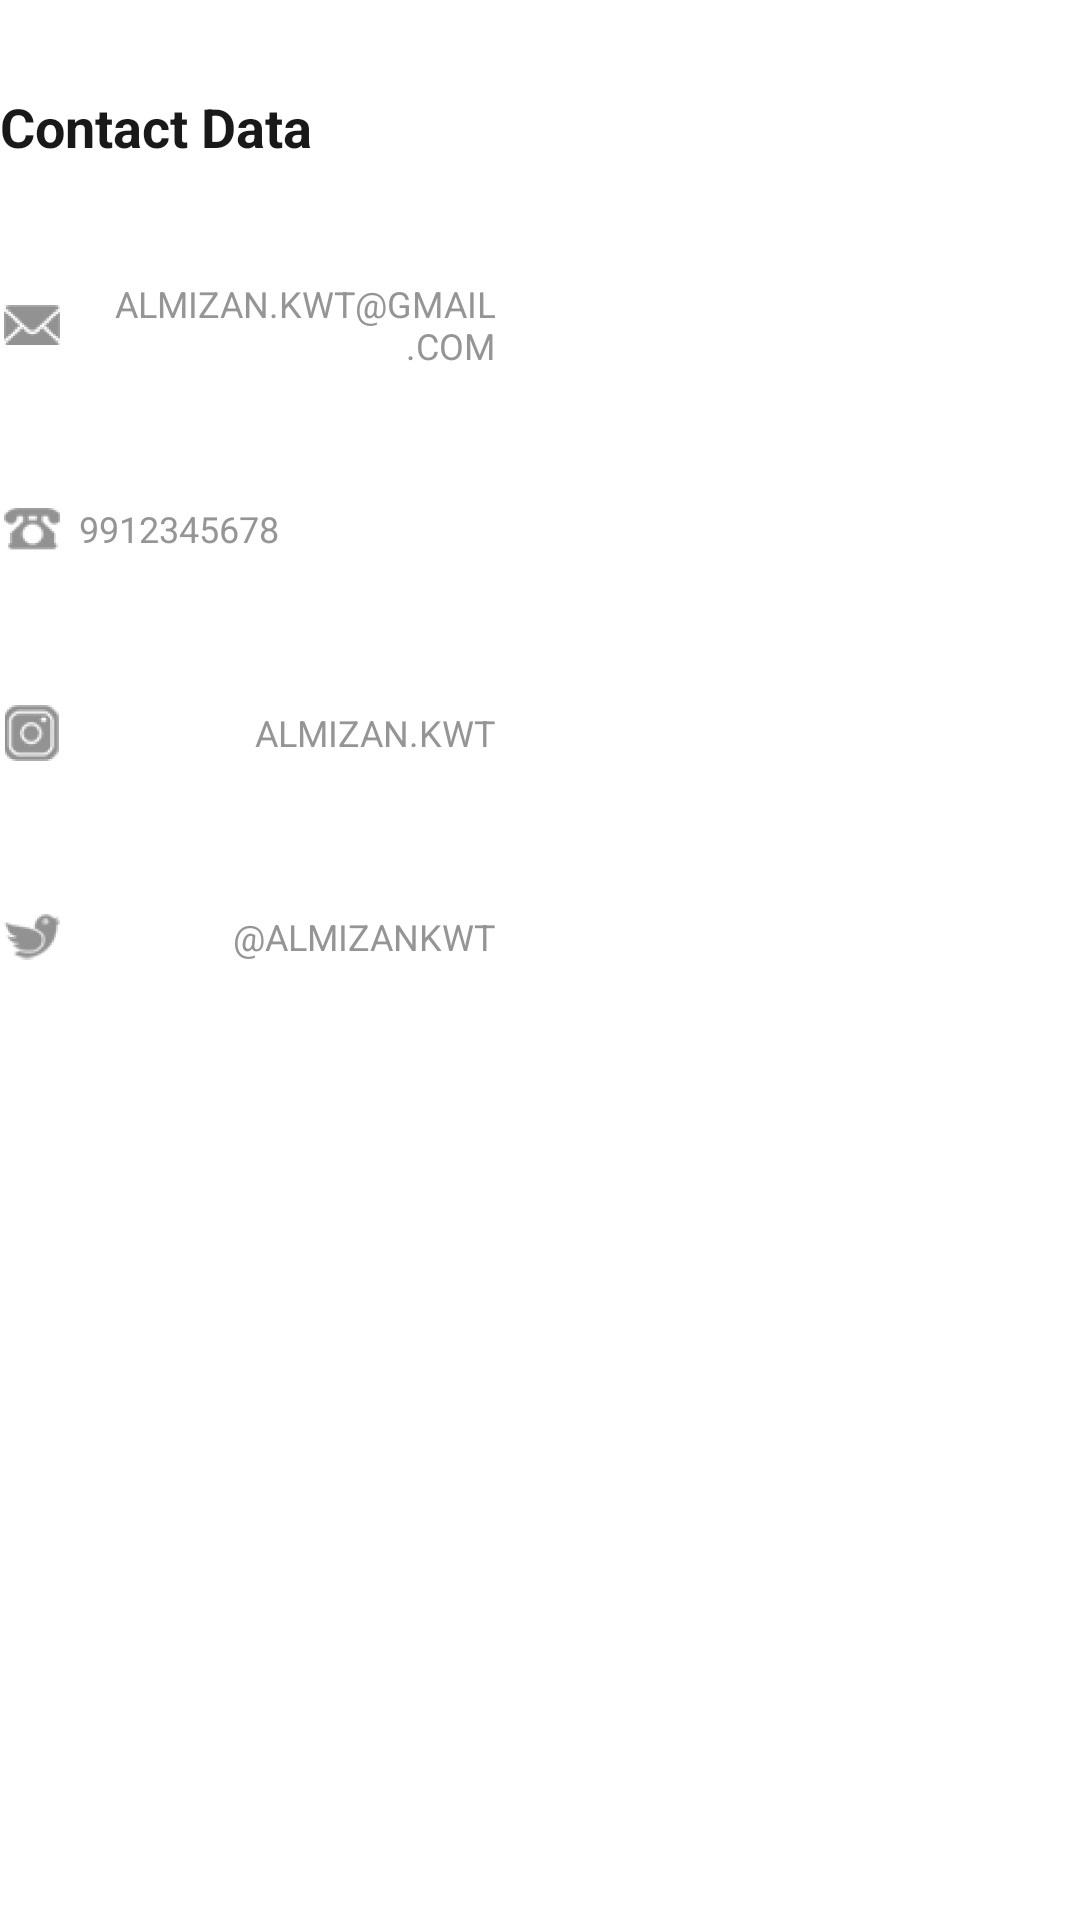

Icon bounding boxes for this 1080 x 1920 phone screenshot, format (x1,y1,x2,y2):
telephone: (4,508,60,550)
